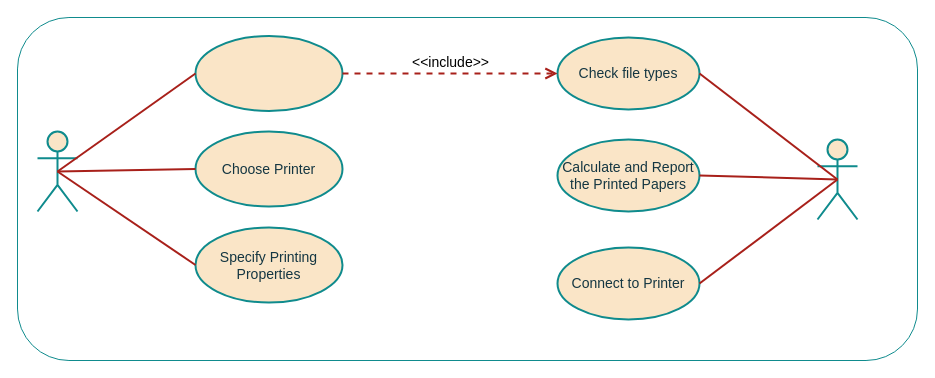
Some shapes in this 935 by 378 pixel diagram are drawn without their labels. Here are the shapes that lost their labels. From the top down, the centre of each, then its label:
At pixel 268 73: "Update Files".
At pixel 57 171: "Student".
At pixel 837 179: "HCMUT_SSO".
